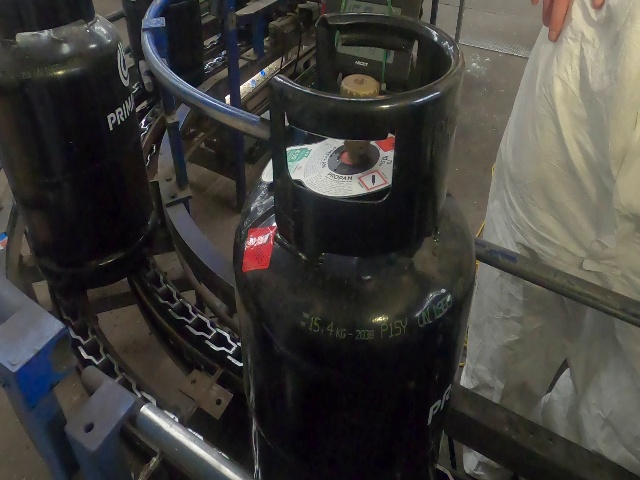gas_bottle: (0, 0, 628, 479)
